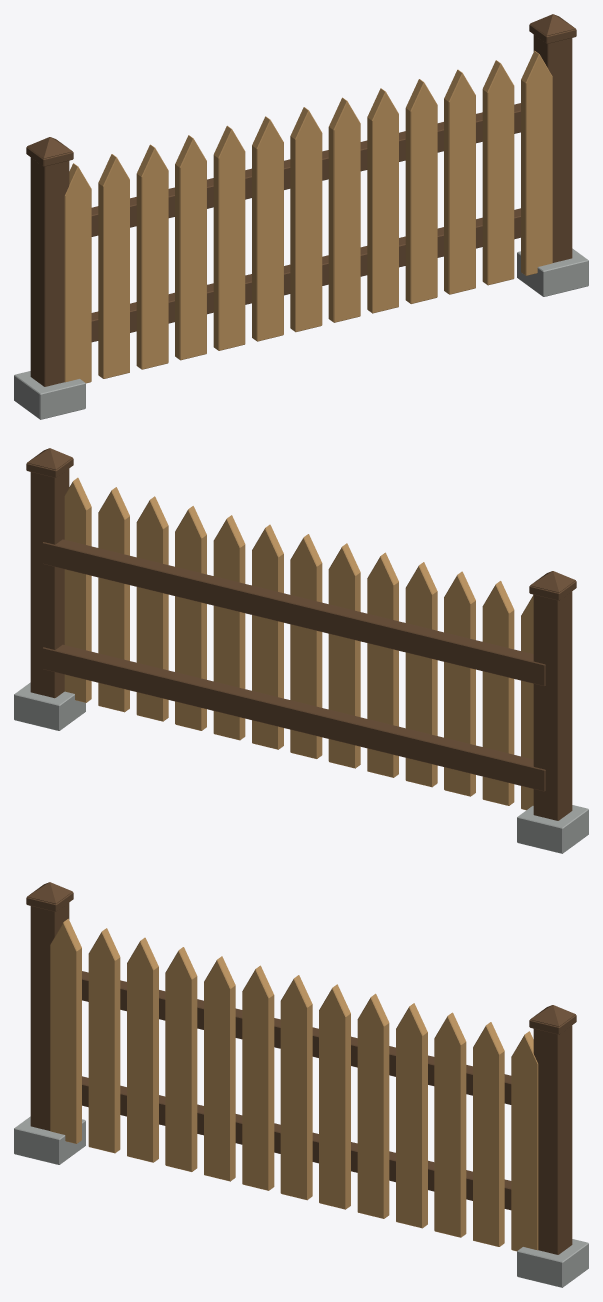
Rendered from b19_gothic_picket_fence.glb.
3 views of the same model, one above another, from view 1: azimuth 30°, elevation 25°; view 2: azimuth 150°, elevation 25°; view 3: azimuth 330°, elevation 25° (orthographic).
Parts seen in each view (by area): view 1: b19_gothic_picket_fence; view 2: b19_gothic_picket_fence; view 3: b19_gothic_picket_fence.
Part boxes in pixels (bbox=[...]): b19_gothic_picket_fence: bbox=[14, 14, 588, 419]; b19_gothic_picket_fence: bbox=[14, 448, 588, 853]; b19_gothic_picket_fence: bbox=[14, 882, 588, 1287].
Bounding box in the file's own units: 2.62 × 1.22 × 0.22.
